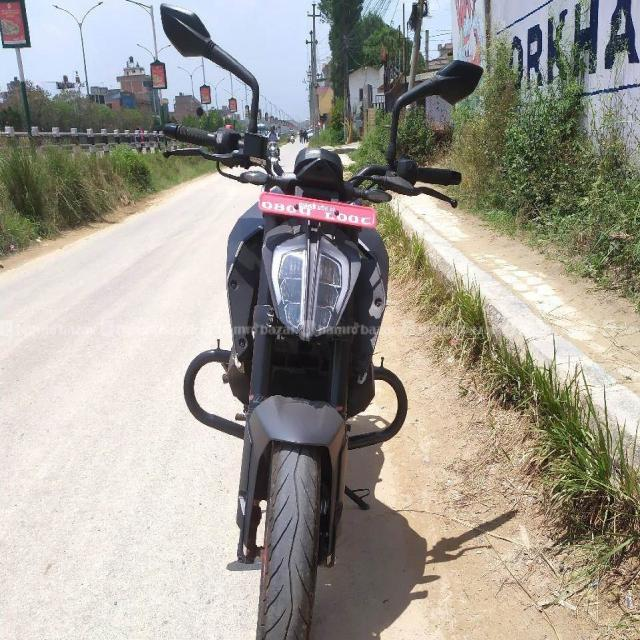License-plate: (261, 190, 376, 233)
